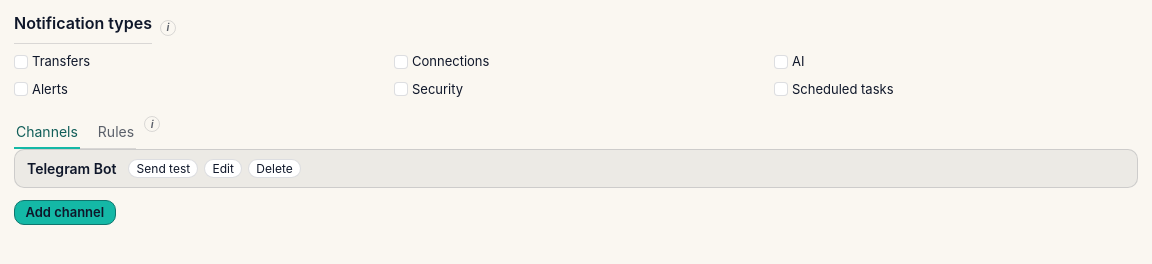
Test: AlertSettings 渠道区 › 发送测试：真发成功 ✓ / 失败 ✗（错误原文上屏）
Click the button with test id "alert-channel-test-3" at (163, 168), box [128, 159, 198, 178]
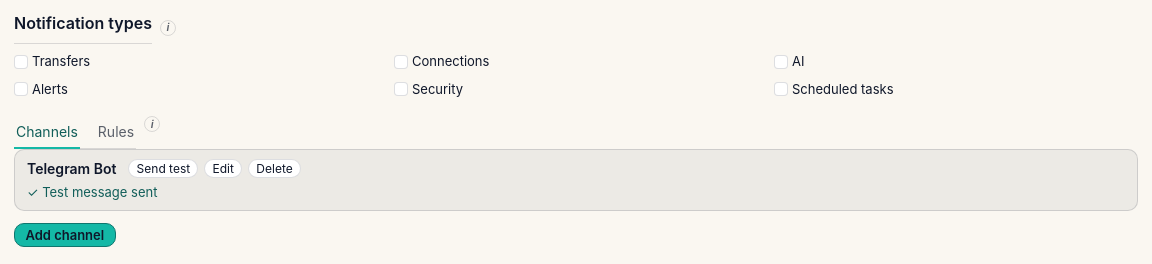
Expected: the text with test id "alert-channel-result-3" shows "✓", [27, 184, 42, 200]
Click the button with test id "alert-channel-test-3" at (163, 168), box [128, 159, 198, 178]
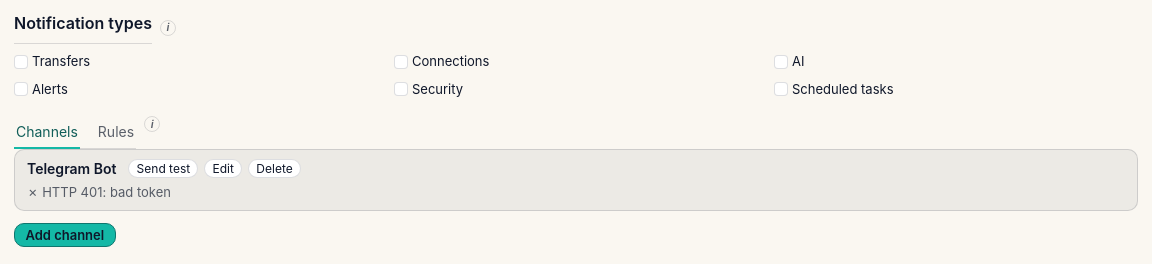
Expected: the text with test id "alert-channel-result-3" shows "✗", [27, 184, 42, 200]
Expected: the text with test id "alert-channel-result-3" shows "HTTP 401", [42, 184, 171, 200]
